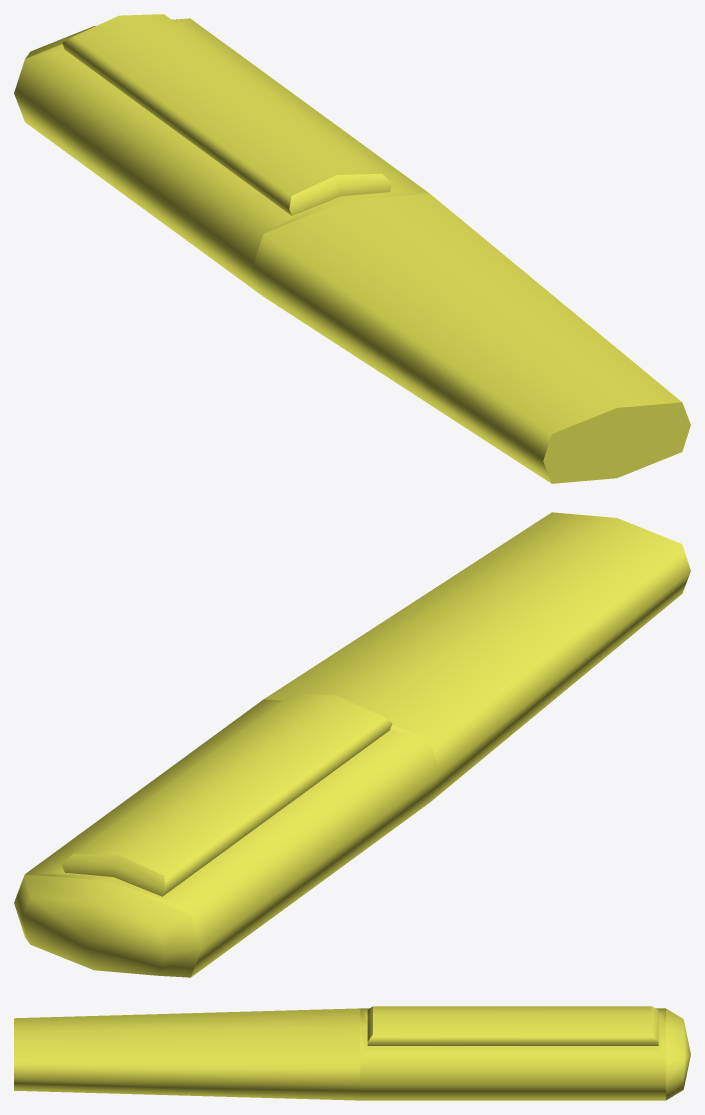
File: Resaltador 1.fbx
3 views of the same model, one above another, from view 1: azimuth 30°, elevation 25°; view 2: azimuth 150°, elevation 25°; view 3: azimuth 270°, elevation 25° (orthographic). The views are drawn at different scales.
Visible parts, largest first — view 1: Resaltador_1; view 2: Resaltador_1; view 3: Resaltador_1.
Part boxes in pixels (x1,y1,x2,y2): Resaltador_1: (14,14,690,483); Resaltador_1: (14,512,690,977); Resaltador_1: (14,1006,690,1100).
Size of the model in its own units: 0.0412 by 0.0225 by 0.2007.
